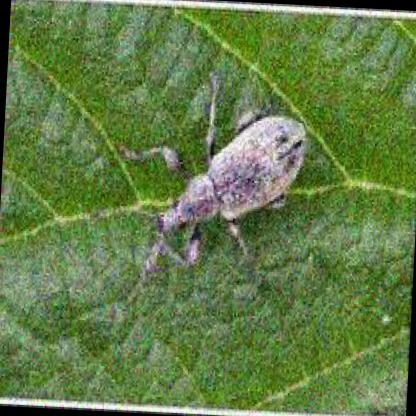ash weevil: (156, 114, 305, 250)
